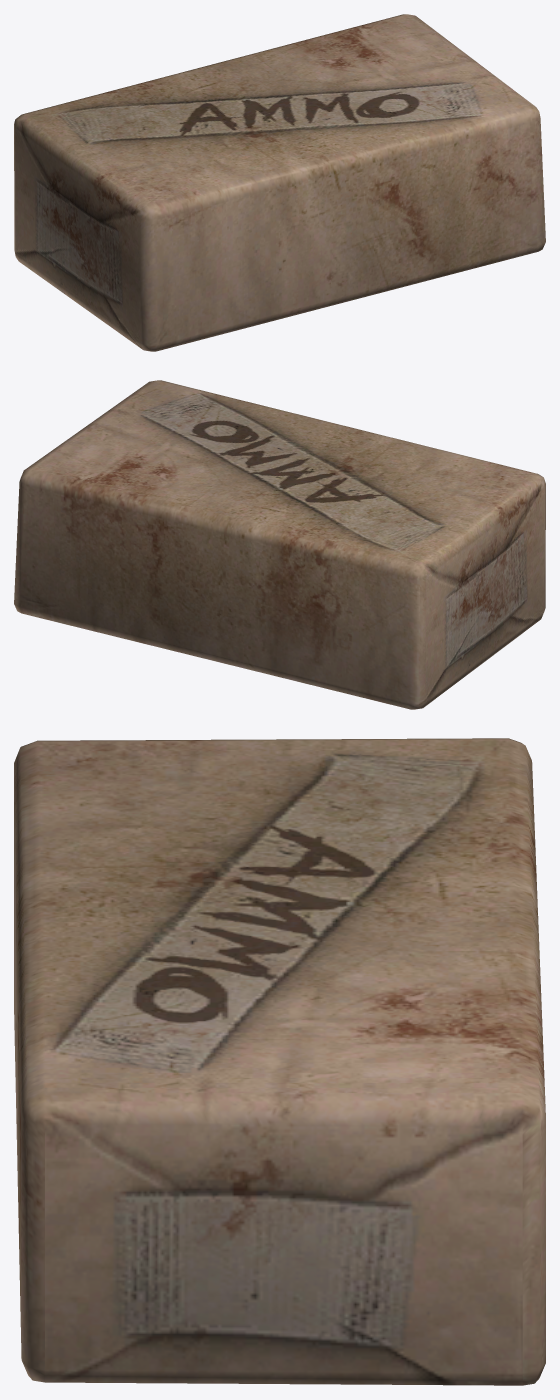
File: Wildcat Ammo.obj
The picture shows the model from 3 angles, top to bottom: view 1: azimuth 30°, elevation 25°; view 2: azimuth 150°, elevation 25°; view 3: azimuth 270°, elevation 25°; orthographic projection. The views are drawn at different scales.
Parts seen in each view (by area): view 1: Wildcat_Ammo; view 2: Wildcat_Ammo; view 3: Wildcat_Ammo.
Part boxes in pixels (x1=…): Wildcat_Ammo: x1=14, y1=14, x2=545, y2=351; Wildcat_Ammo: x1=14, y1=380, x2=545, y2=709; Wildcat_Ammo: x1=14, y1=738, x2=545, y2=1385.
Size of the model in its own units: 21.41 by 7.54 by 12.41.
Materials: 1 (1 with a texture image).
